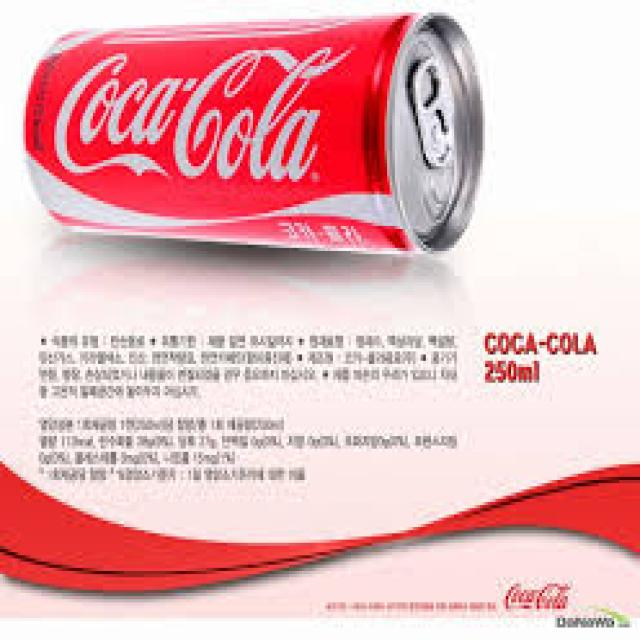Coca-Cola: (15, 12, 497, 266)
